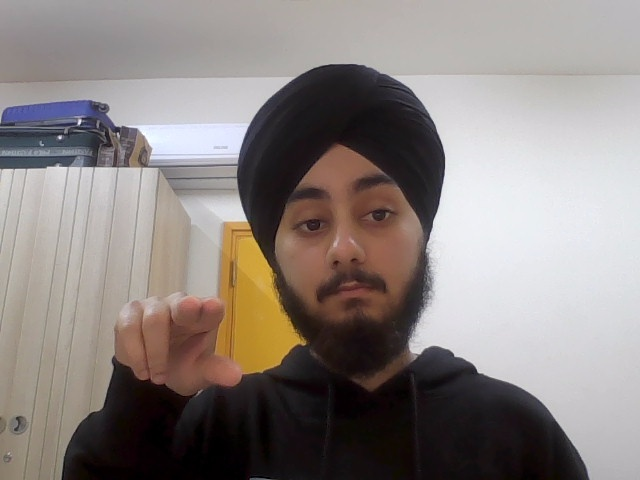No: (110, 285, 243, 398)
